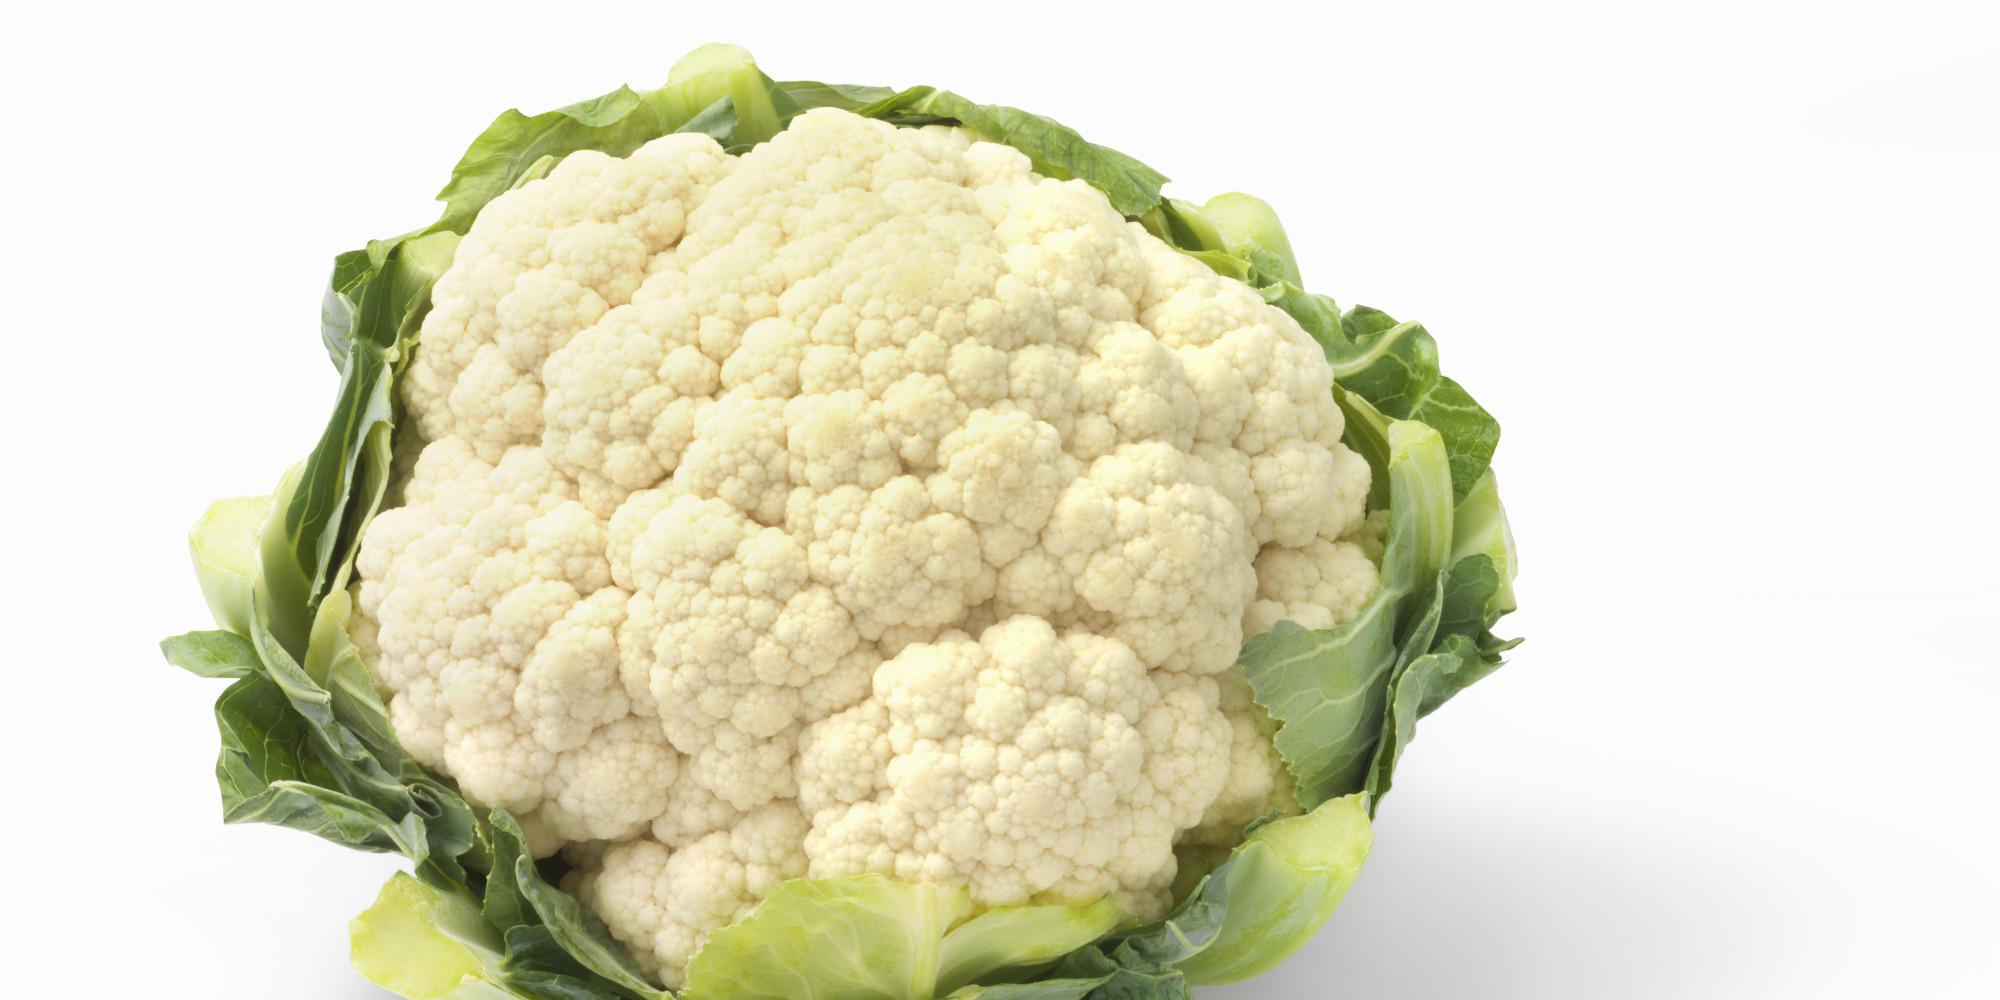cauliflower: (344, 103, 1386, 991)
